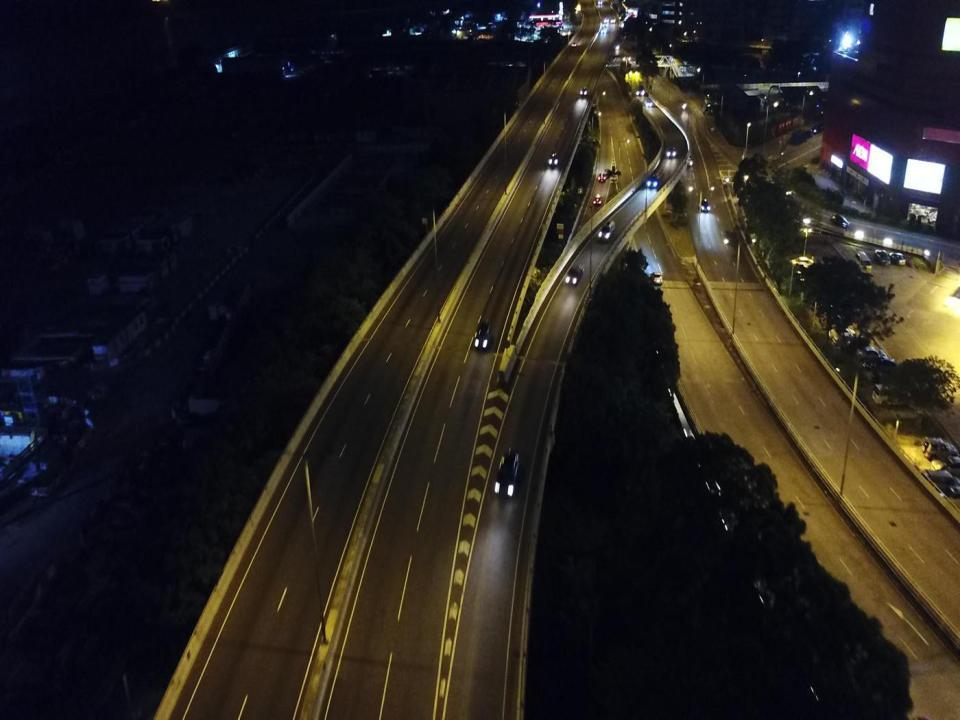car: (493, 448, 520, 500), (872, 384, 914, 407), (922, 436, 958, 460), (921, 469, 960, 487), (473, 318, 491, 353), (930, 455, 960, 474), (836, 336, 869, 353), (872, 367, 906, 383), (930, 486, 960, 502), (863, 358, 898, 371), (857, 346, 887, 361), (565, 264, 584, 286), (813, 302, 839, 316), (830, 328, 856, 341), (819, 314, 845, 327), (801, 289, 826, 302), (791, 256, 814, 270), (875, 249, 891, 266), (831, 214, 849, 228), (889, 252, 906, 265), (684, 147, 694, 168), (651, 272, 664, 285), (646, 176, 659, 189), (698, 198, 710, 211), (811, 124, 825, 134), (548, 152, 557, 165), (598, 172, 607, 184), (667, 146, 676, 158), (593, 194, 602, 204), (644, 98, 653, 108), (580, 87, 587, 96), (610, 17, 616, 23), (600, 28, 607, 33), (602, 22, 608, 27), (572, 42, 577, 47), (597, 0, 602, 5), (603, 18, 609, 22)
truck: (792, 129, 812, 142), (635, 77, 645, 96)
van: (855, 251, 872, 273), (599, 220, 615, 243)
